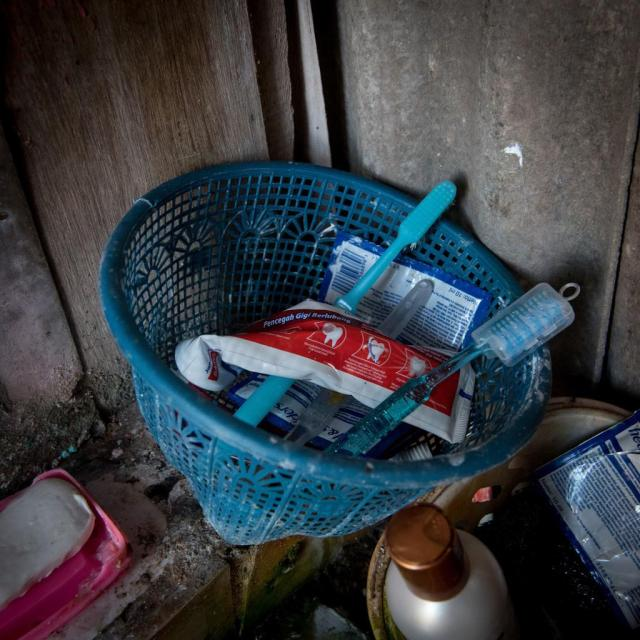Toothpaste: (172, 299, 475, 452)
